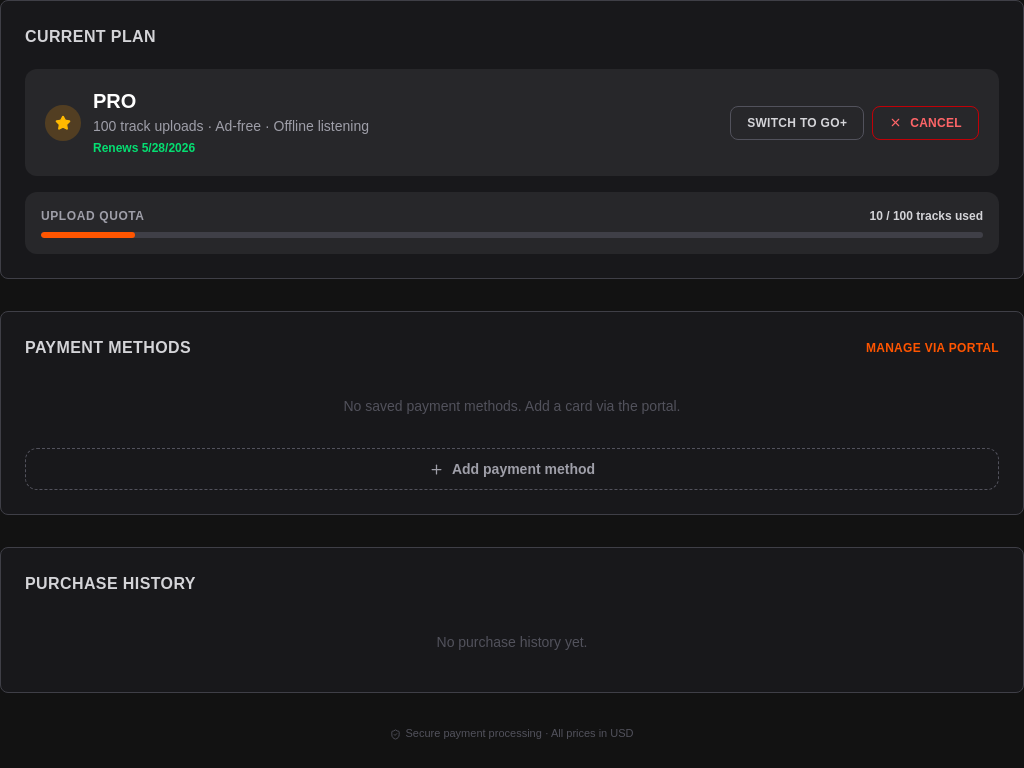
SubscriptionSettings › cancel and resume › opens cancel confirm dialog when Cancel button is clicked
Click the button "Cancel": click(926, 122) [872,106,979,140]
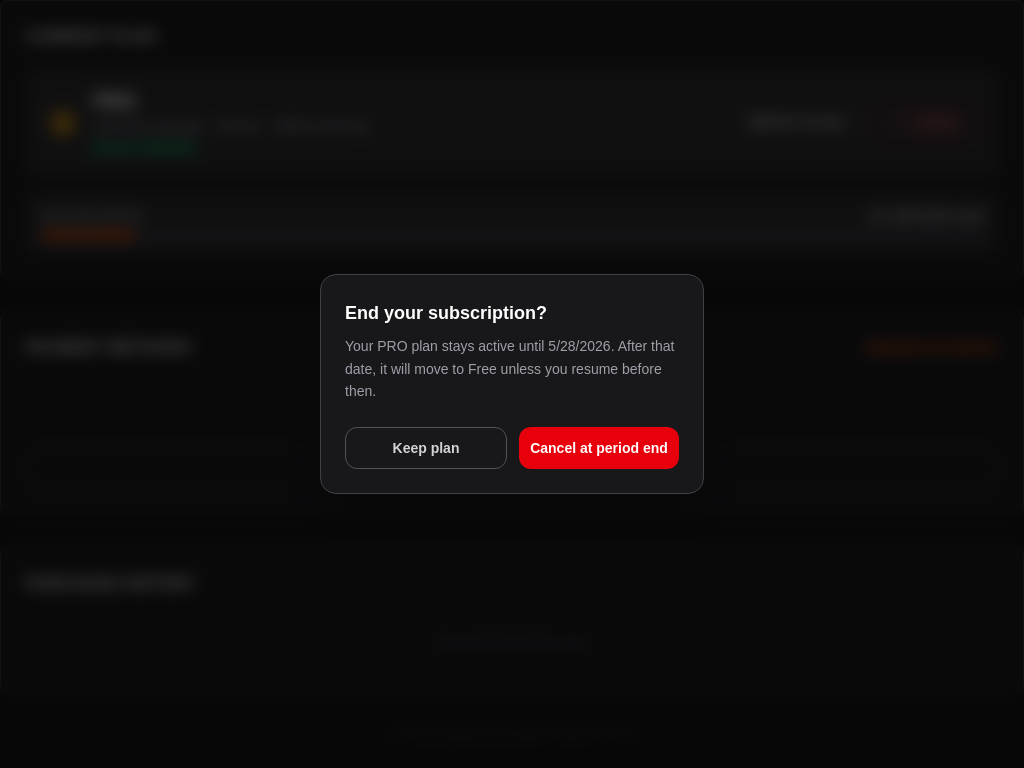
Result: the heading "End your subscription?" is shown at [345,303,547,323]
